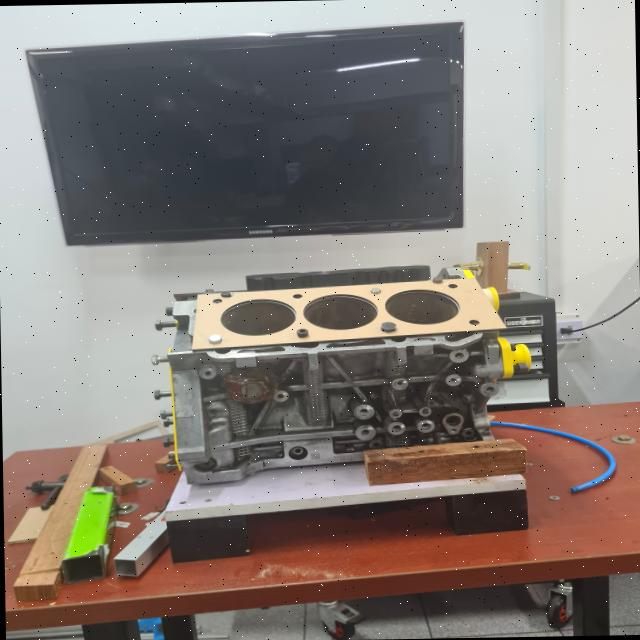tor_v1: (192, 277, 504, 350)
